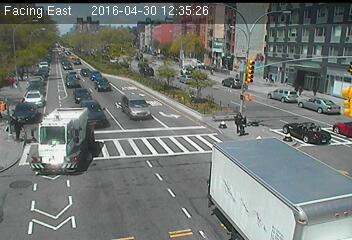neg: (57, 134, 78, 162), (189, 70, 206, 93), (149, 61, 164, 81), (238, 195, 253, 215), (148, 180, 163, 199), (17, 63, 30, 80), (97, 73, 110, 90), (165, 17, 176, 32), (304, 34, 315, 49), (33, 154, 44, 168), (249, 22, 259, 36), (93, 46, 102, 58)
pos: (229, 108, 247, 132), (236, 114, 253, 137), (11, 116, 27, 137), (307, 83, 323, 104), (295, 80, 308, 98)
